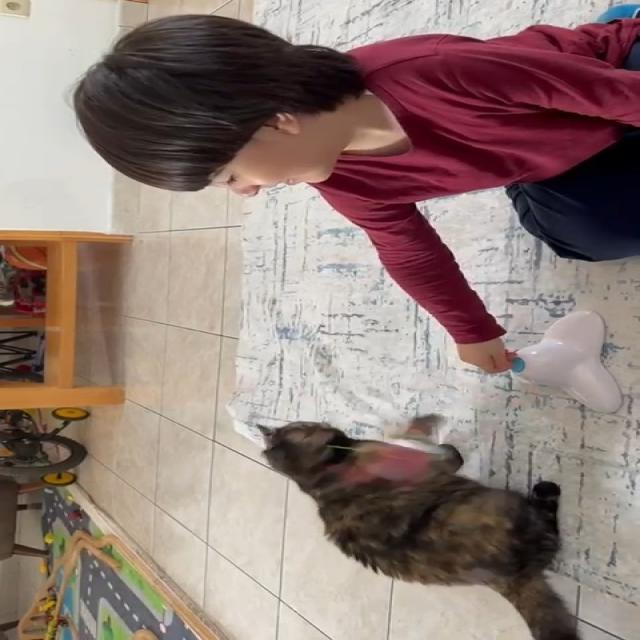authorized: (257, 415, 583, 639)
